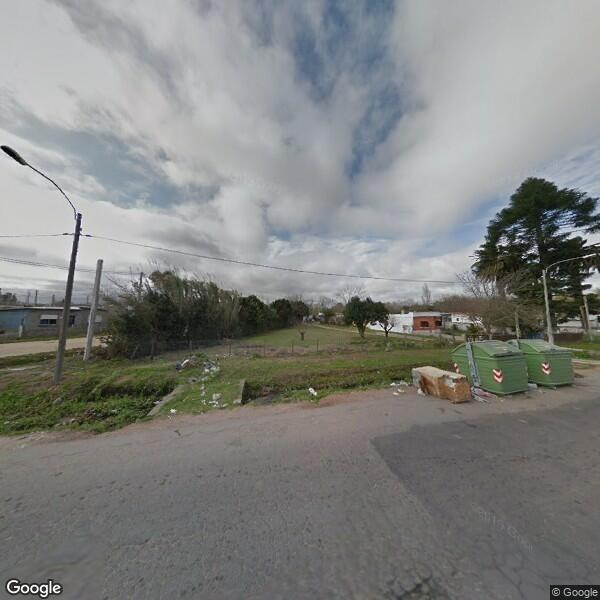Dechets: (411, 367, 475, 402), (389, 381, 408, 400), (211, 392, 225, 403), (307, 386, 319, 398)
Trash: (447, 337, 578, 405)
